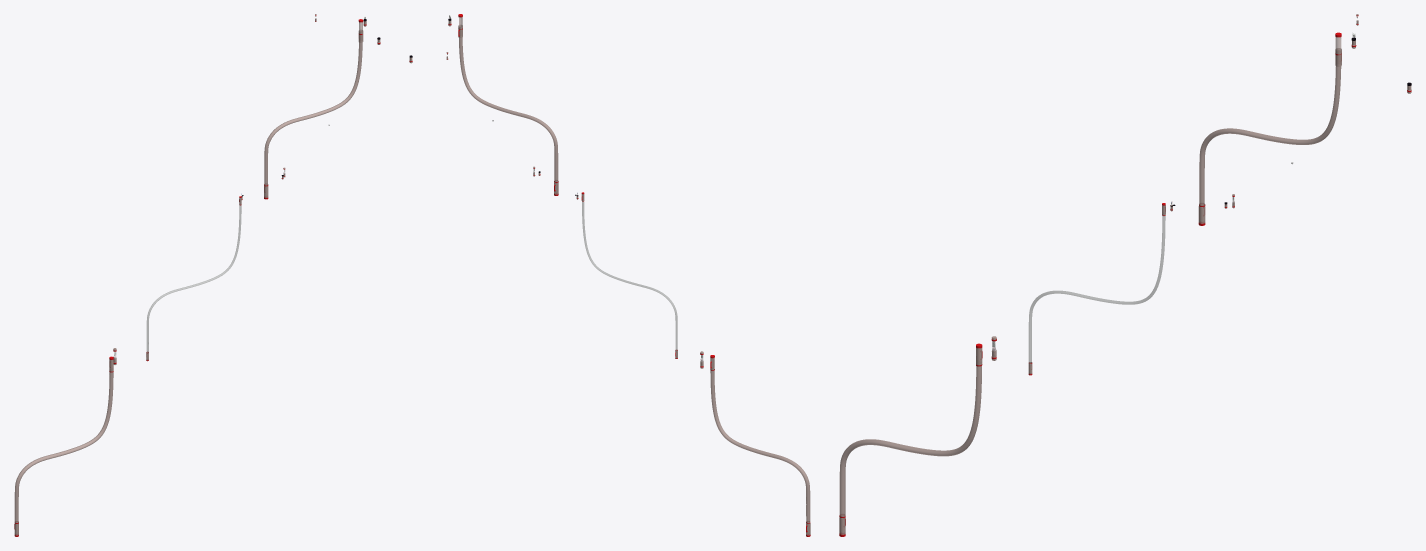
Rendered from DIEGOCAPSULA-transformed.glb.
3 renders of one model, left to right at view 1: azimuth 30°, elevation 25°; view 2: azimuth 150°, elevation 25°; view 3: azimuth 330°, elevation 25°, orthographic. The views are drawn at different scales.
Visible parts, largest first — view 1: fisek_govd.003; view 2: fisek_govd.003; view 3: fisek_govd.003.
Part boxes in pixels (x1,y1,x2,y2): fisek_govd.003: (14,14,380,536); fisek_govd.003: (409,14,810,536); fisek_govd.003: (839,14,1411,536).
Bounding box in the file's own units: 827 × 896 × 115.
Materials: 3 (2 with a texture image).
